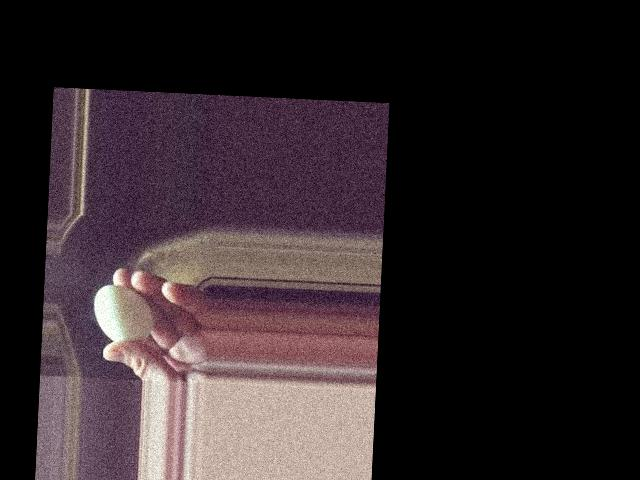egg: (92, 284, 155, 343)
